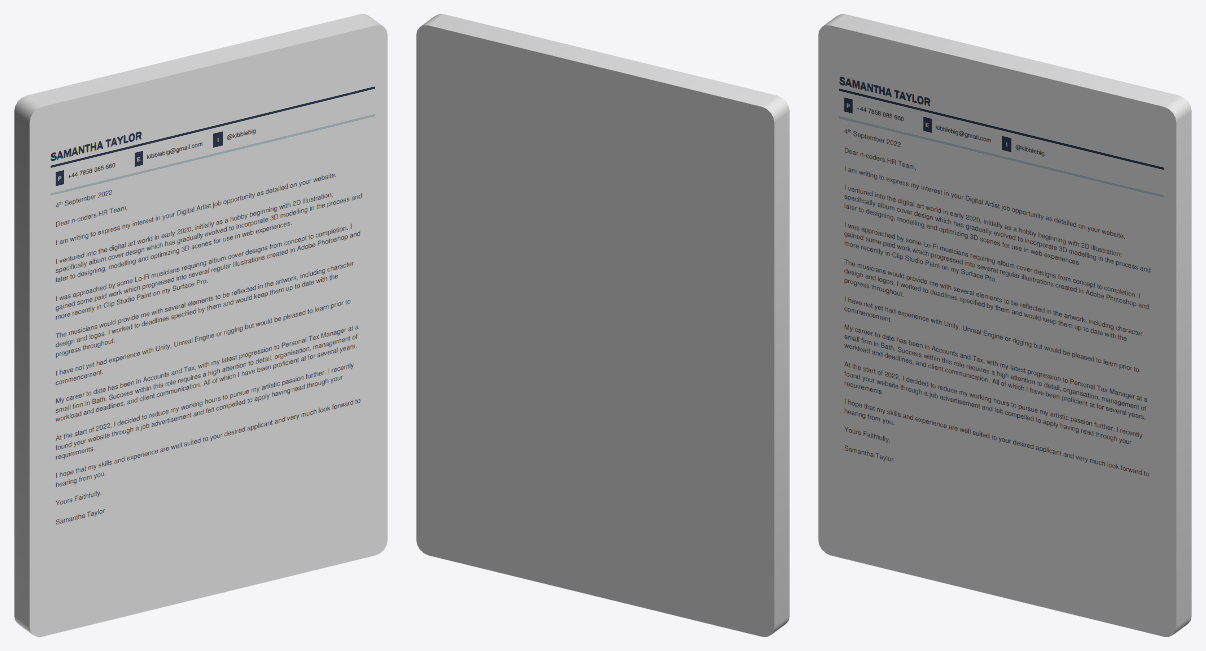
Rendered from samCover.glb.
3 views of the same model, side by side, from view 1: azimuth 30°, elevation 25°; view 2: azimuth 150°, elevation 25°; view 3: azimuth 330°, elevation 25° (orthographic).
Parts seen in each view (by area): view 1: sam; view 2: sam; view 3: sam.
Boxes of the visible parts, bbox=[...] form: sam: bbox=[14, 14, 387, 636]; sam: bbox=[416, 14, 789, 636]; sam: bbox=[818, 14, 1191, 636].
Size of the model in its own units: 2.1 by 2.97 by 0.1566.
Materials: 2 (1 with a texture image).
